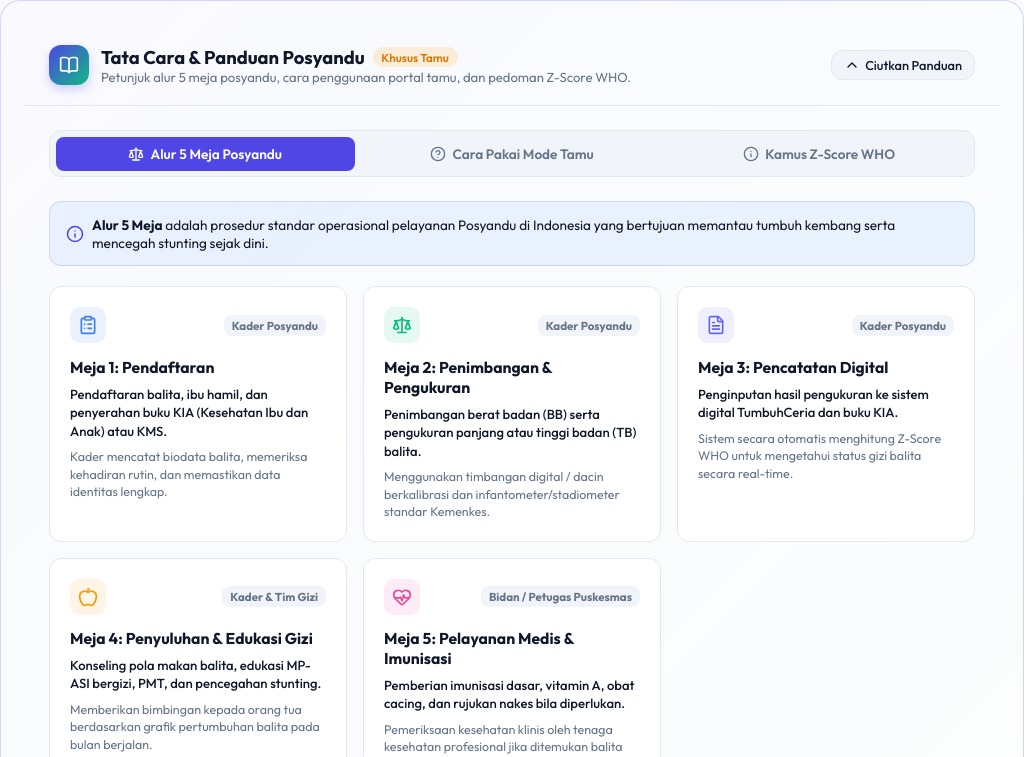
Test: PanduanTataCaraTamu Component › should switch tabs to Kamus Z-Score WHO
Click the button "Kamus Z-Score WHO".
click(819, 154)  # box [670,137,968,171]
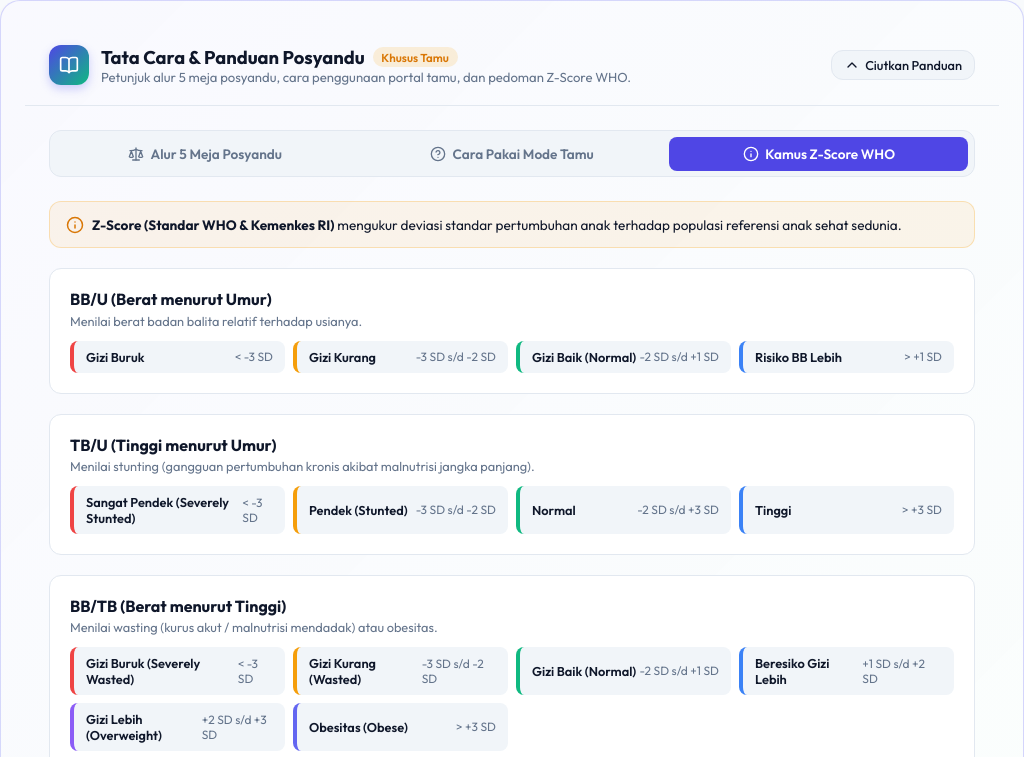
expect the heading "BB/U (Berat menurut Umur)" is shown: met, box [70,289,272,309]
expect the heading "TB/U (Tinggi menurut Umur)" is shown: met, box [70,435,277,455]
expect the text "Sangat Pendek (Severely Stunted)" is shown: met, box [86,494,242,526]
